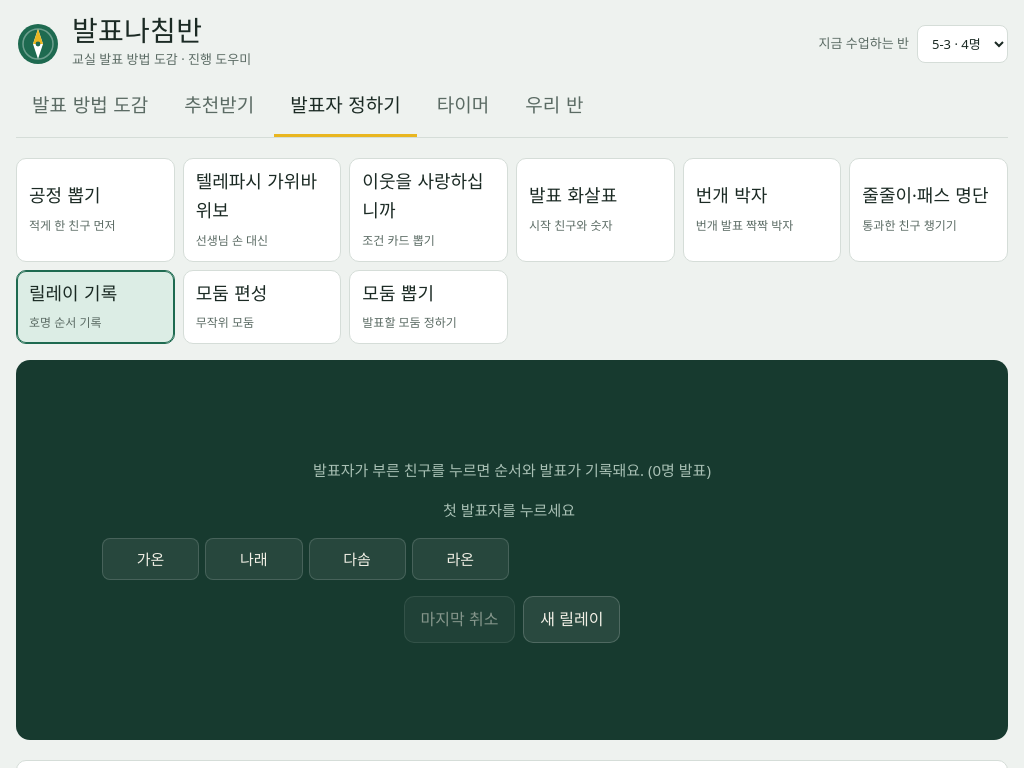
Scenario: 다른 탭과 맞추기 › 다른 탭에서 반을 바꿔도 이 탭의 반과 릴레이 기록이 유지된다
Click the button "가온".
click(151, 559)  # box [102,538,199,580]
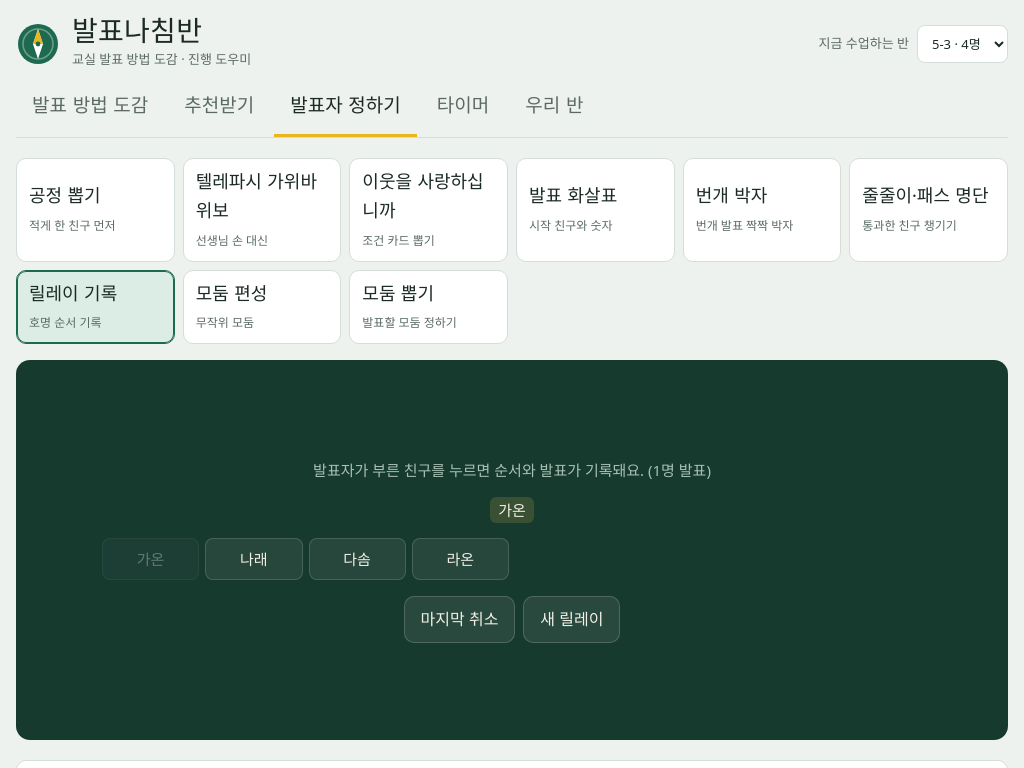
Expected: the dropdown labelled "지금 수업하는 반" shows "5-3 · 4명", [917,25,1008,63]
Now the text "발표자가 부른 친구를 누르면 순서와 발표가 기록돼요. (1명 발표)" is shown, box [313,458,711,482]
